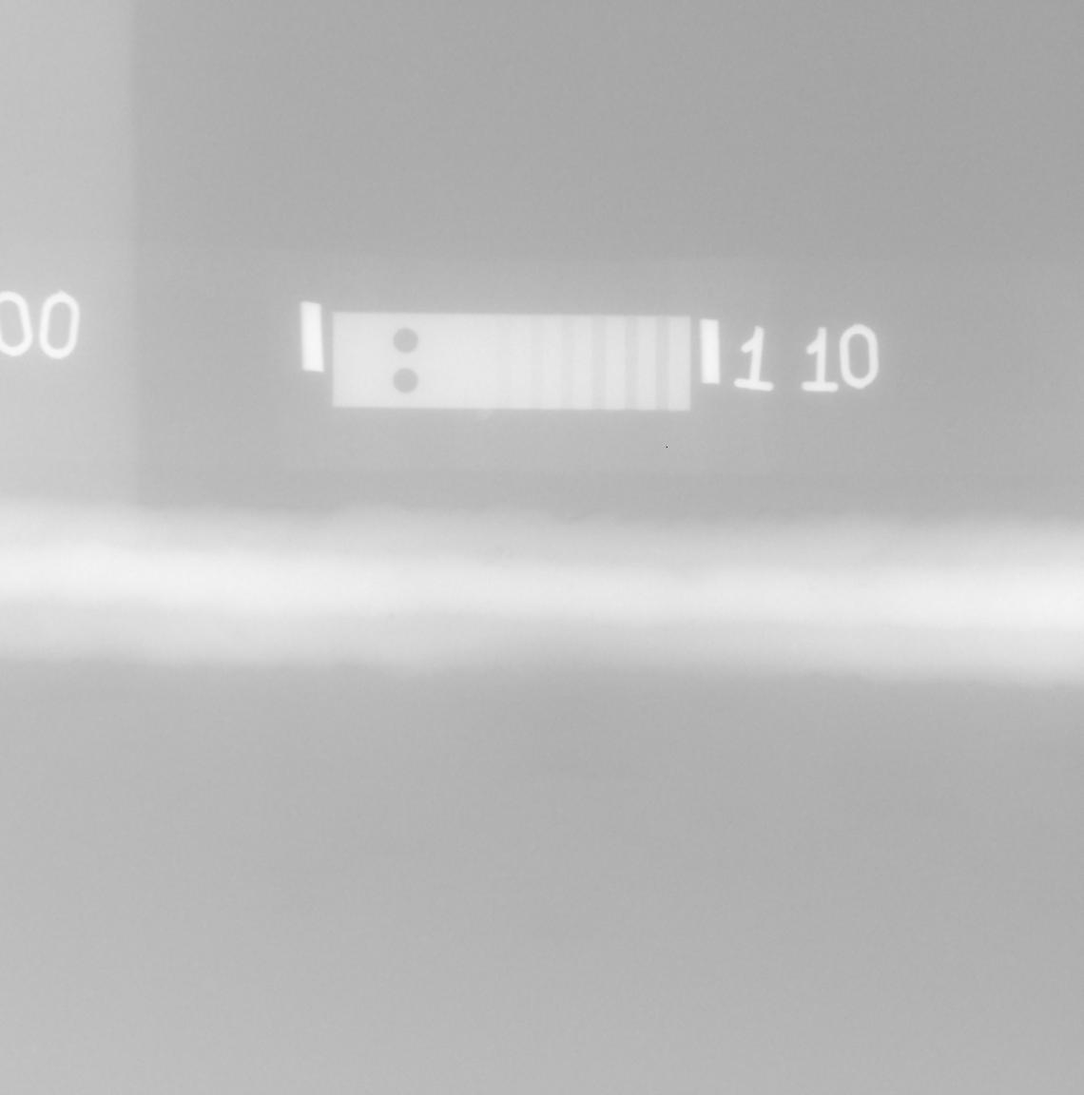Inclusion: (531, 606, 553, 610), (495, 543, 503, 552), (599, 625, 613, 629), (583, 647, 589, 654), (484, 561, 493, 565), (810, 587, 815, 591), (486, 601, 490, 605), (521, 553, 524, 558), (861, 584, 865, 587), (530, 588, 533, 592), (541, 580, 543, 586), (614, 560, 618, 563), (570, 584, 573, 587), (1079, 598, 1082, 600)
Pore/Porosity: (388, 615, 395, 621), (510, 554, 515, 558)
Reference Standard 2: (332, 311, 691, 412)
